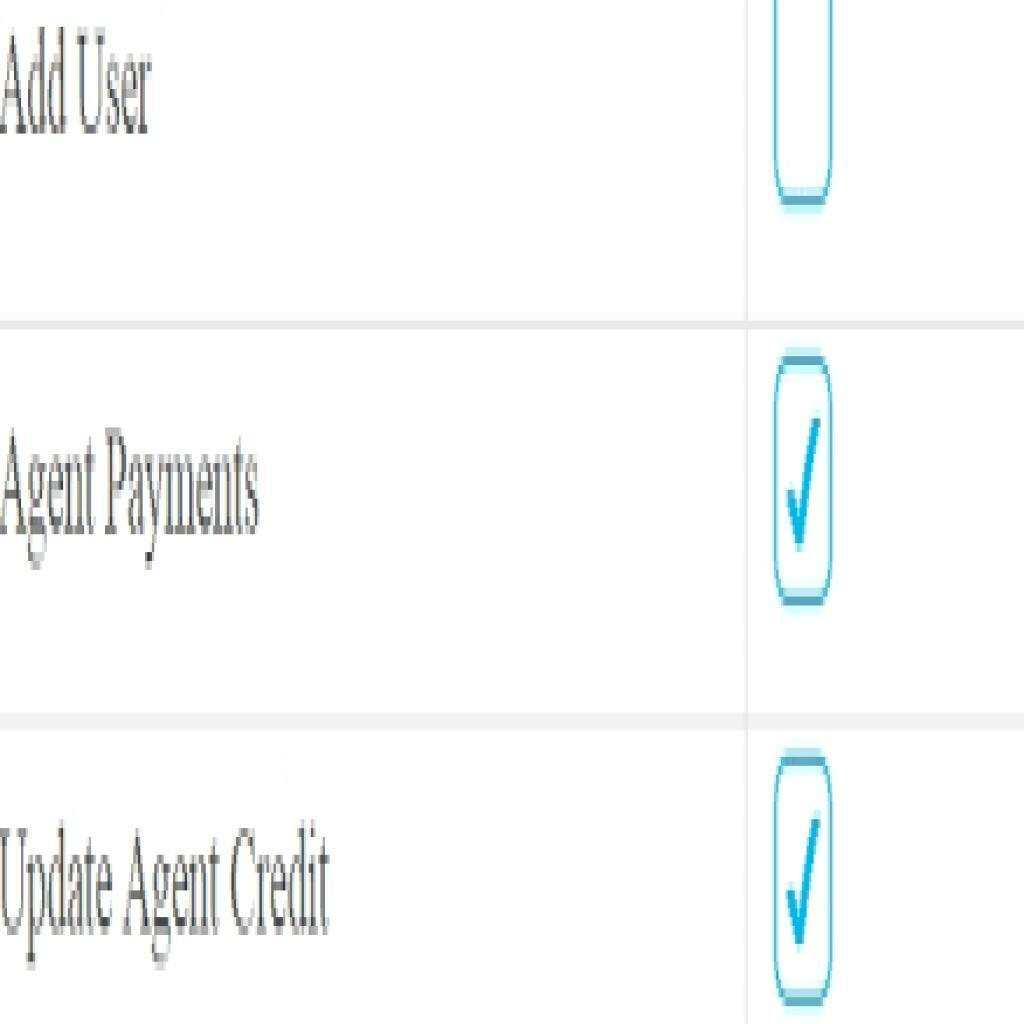checkbox: (774, 357, 835, 607), (775, 757, 834, 1009)
label: (1, 814, 337, 971), (1, 420, 267, 584), (1, 25, 158, 137), (777, 1, 836, 207)
